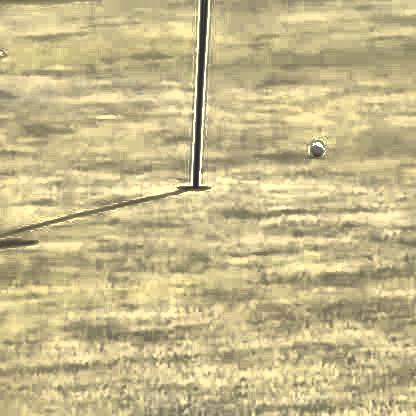golfball: (308, 137, 319, 153)
